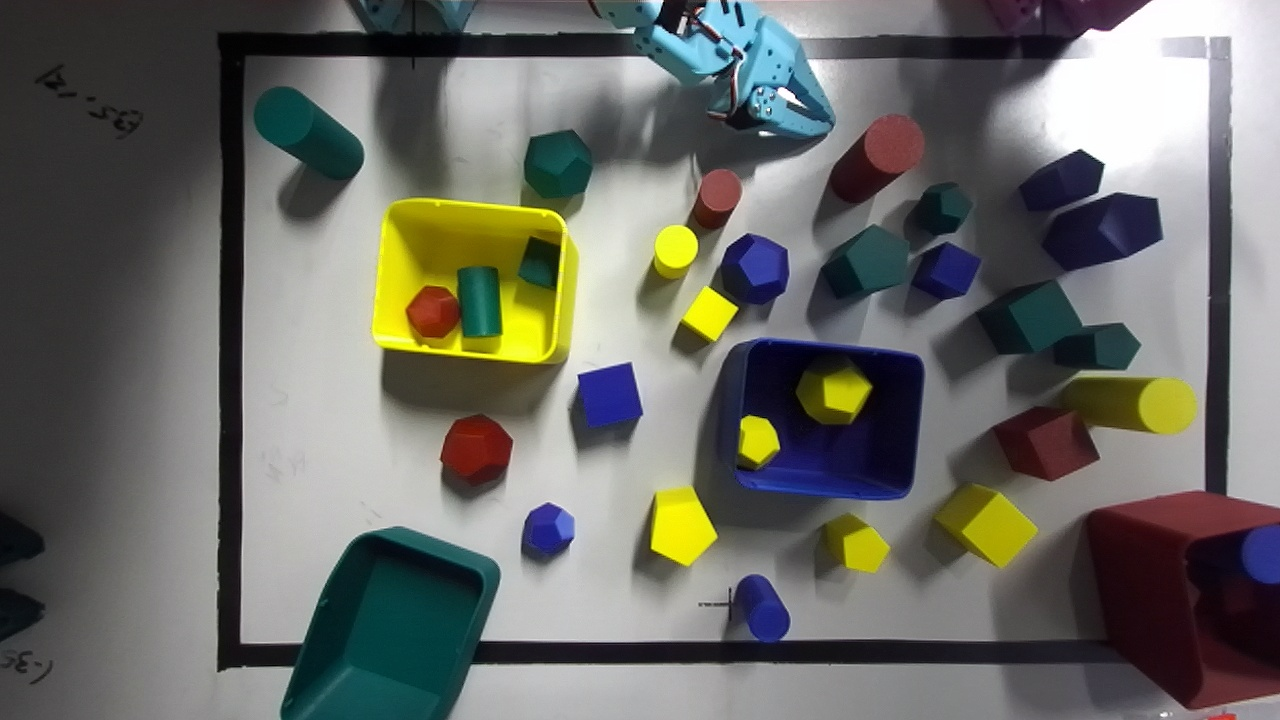bin: (1087, 491, 1279, 708), (281, 529, 498, 719), (372, 198, 577, 363), (715, 339, 923, 499)
cube: (933, 483, 1037, 566), (993, 407, 1099, 480), (976, 280, 1081, 353), (577, 362, 642, 427), (911, 243, 980, 299), (681, 287, 737, 341), (517, 237, 560, 287)
cylinder: (253, 86, 363, 179), (1056, 373, 1196, 433), (829, 114, 924, 202), (732, 574, 790, 642), (457, 266, 501, 336), (692, 169, 741, 229), (653, 225, 697, 278)
dodecahedron: (796, 356, 872, 424), (440, 414, 512, 484), (719, 233, 788, 304), (524, 130, 592, 197), (913, 182, 972, 234), (406, 285, 460, 337), (522, 502, 574, 555), (737, 415, 780, 469)
hexagonal: (1043, 193, 1162, 270), (821, 225, 908, 297), (650, 486, 717, 565), (1019, 150, 1103, 210), (1053, 323, 1140, 369), (823, 513, 889, 572)
